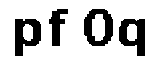0: (79, 5, 116, 48)
f: (45, 5, 70, 54)
p: (12, 11, 42, 60)
q: (118, 16, 147, 60)
